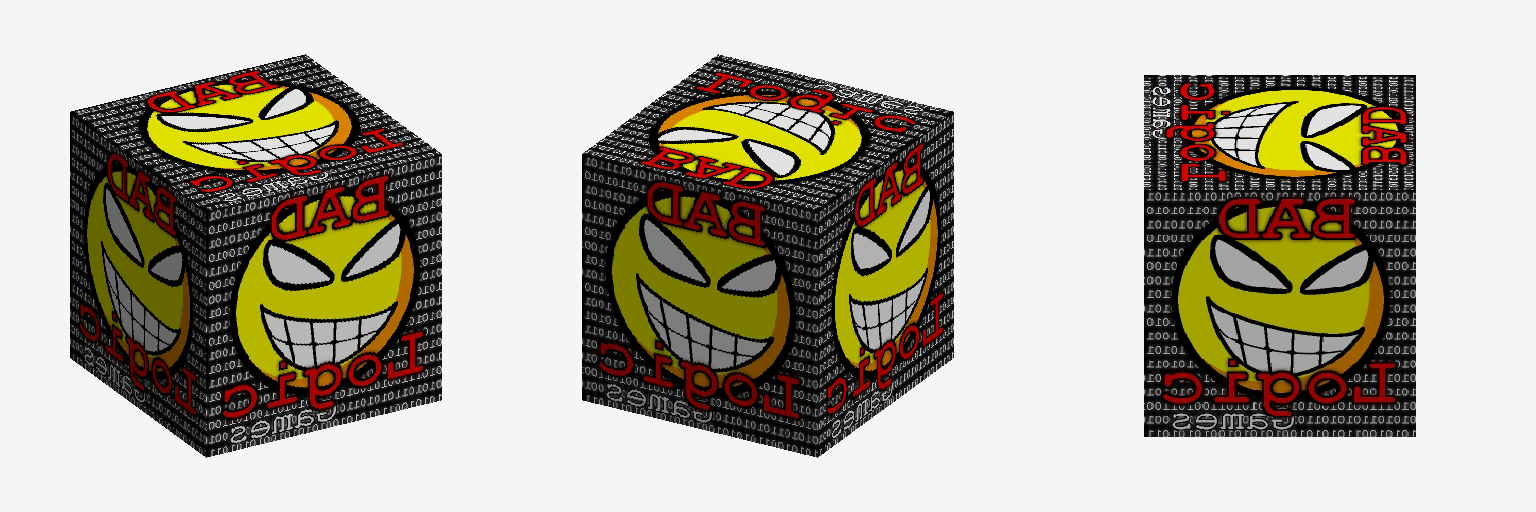
3 views of the same model, side by side, from view 1: azimuth 30°, elevation 25°; view 2: azimuth 150°, elevation 25°; view 3: azimuth 270°, elevation 25° (orthographic).
Visible parts, largest first — view 1: cube1; view 2: cube1; view 3: cube1.
Boxes of the visible parts, x1=… form: cube1: x1=70, y1=54, x2=441, y2=457; cube1: x1=582, y1=54, x2=953, y2=457; cube1: x1=1144, y1=75, x2=1415, y2=436.
Size of the model in its own units: 2 by 2 by 2.
1 materials, 1 textured.